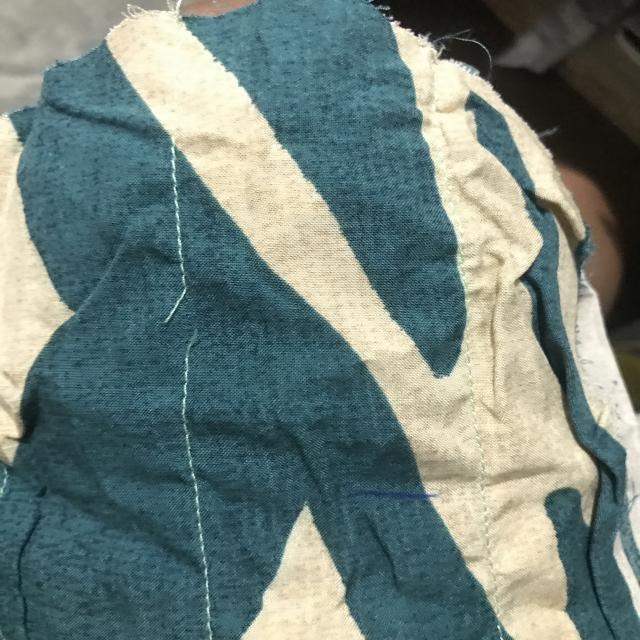broken: (155, 278, 222, 368)
good: (163, 180, 194, 252)
